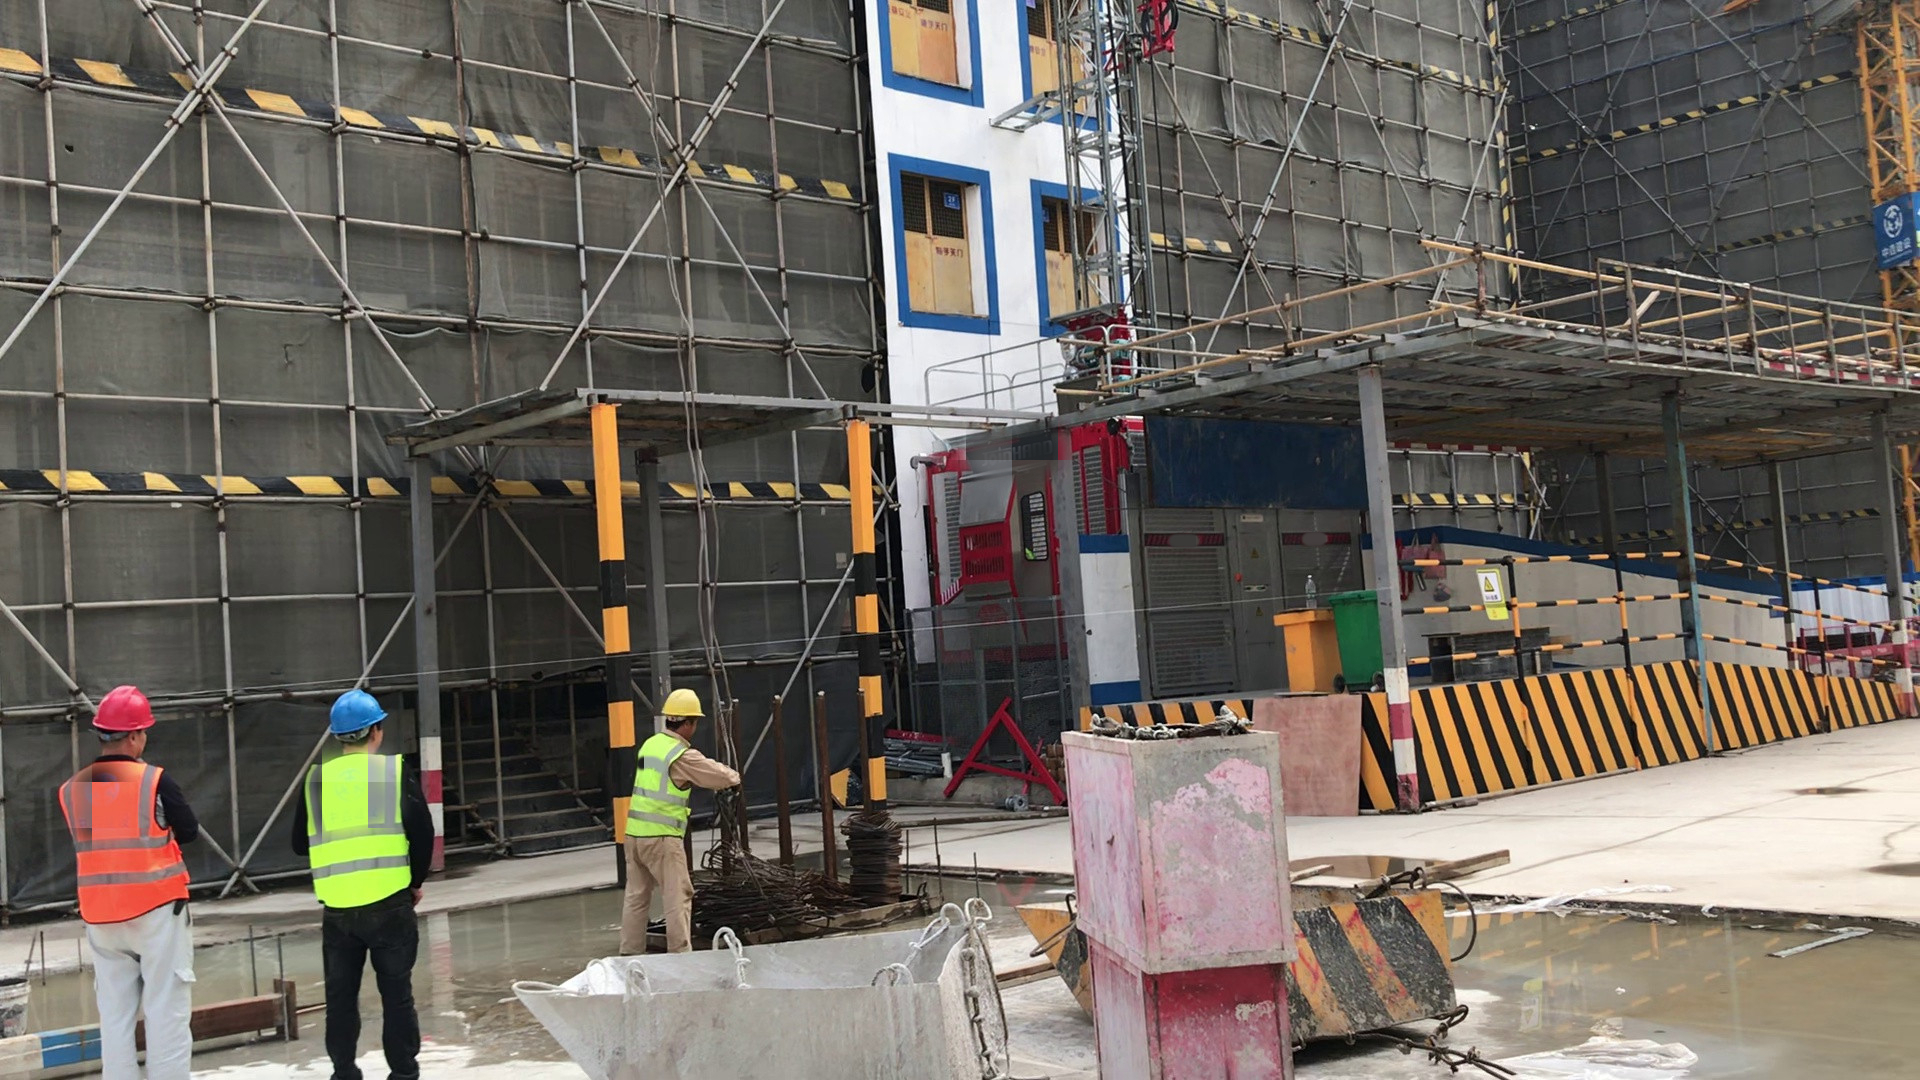fence: (1359, 517, 1920, 726)
helmet: (86, 684, 165, 737), (324, 686, 401, 736), (660, 684, 711, 722)
hopper: (1013, 878, 1487, 1063), (499, 922, 993, 1080)
person: (284, 685, 443, 1080), (57, 678, 203, 1080), (614, 683, 742, 965)
slogan: (1861, 192, 1920, 263), (1478, 561, 1518, 635)
vest: (56, 756, 201, 922), (301, 754, 425, 913), (625, 730, 699, 844)
